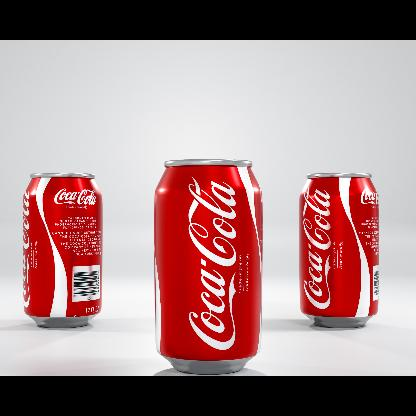Tin_Can: (146, 155, 266, 376), (292, 168, 384, 332), (19, 169, 106, 333)
